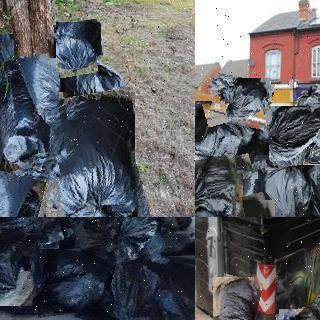Garbage: (37, 87, 143, 217), (78, 248, 195, 320), (0, 93, 60, 217), (0, 55, 63, 170), (195, 96, 262, 183), (31, 247, 112, 316), (71, 217, 164, 268), (60, 54, 131, 118), (256, 162, 320, 217), (210, 75, 273, 128), (267, 104, 320, 166), (195, 157, 246, 217), (0, 232, 34, 309), (0, 217, 62, 258), (55, 21, 103, 73), (208, 275, 258, 320), (195, 195, 279, 217), (288, 83, 320, 121), (305, 140, 320, 217), (0, 31, 16, 96), (277, 306, 320, 320)
